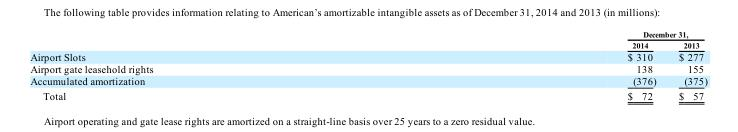table: (29, 29, 706, 101)
table column: (29, 29, 389, 101), (389, 29, 666, 101), (666, 29, 706, 101)
table column header: (29, 29, 706, 49)
table row: (29, 74, 706, 88), (29, 49, 706, 62), (29, 88, 706, 101), (29, 62, 706, 74), (29, 29, 706, 39), (29, 39, 706, 49)
table spanning cell: (389, 29, 706, 39)
